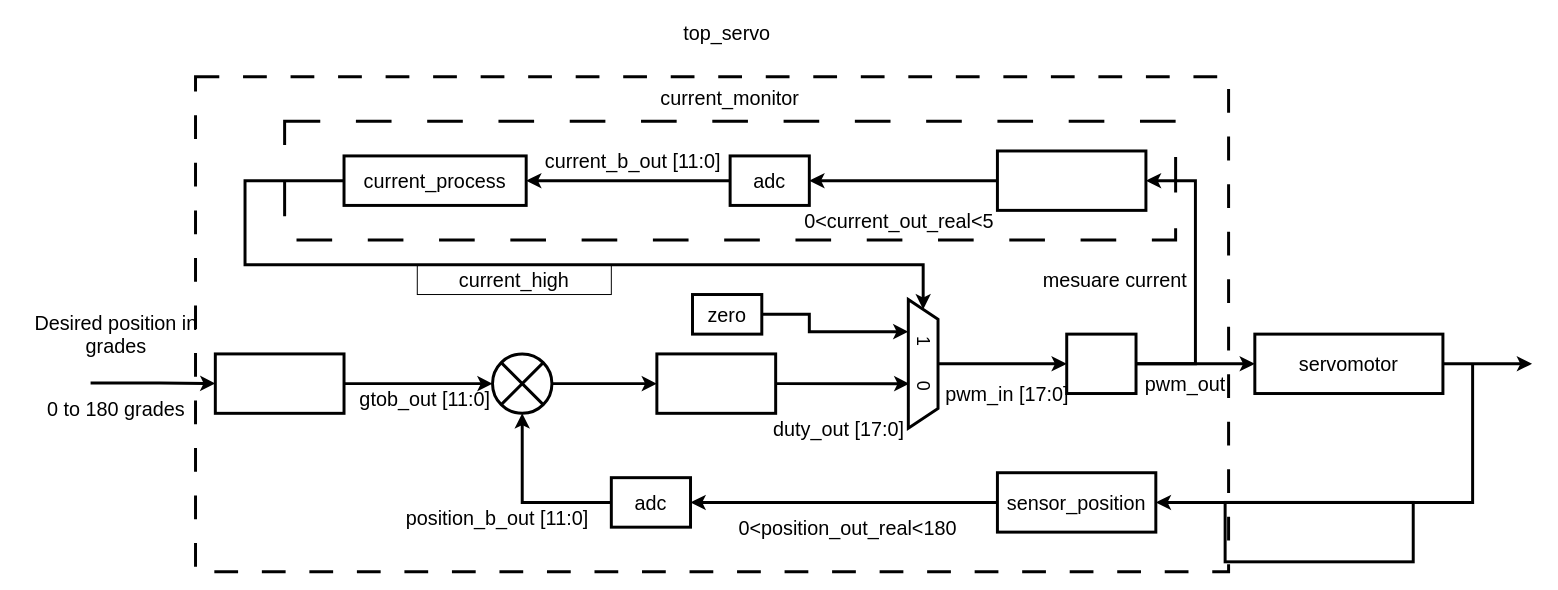
Image size: 1558x590. Some labels were removed from this diagram. Here are the shapes that lost their labels. From the top down, the centre of each, then its label:
[1071,180]: sensor_current
[279,383]: Converter grade to bits
[716,383]: control_pid
[1101,363]: pwm
[1318,531]: currently position in grades
